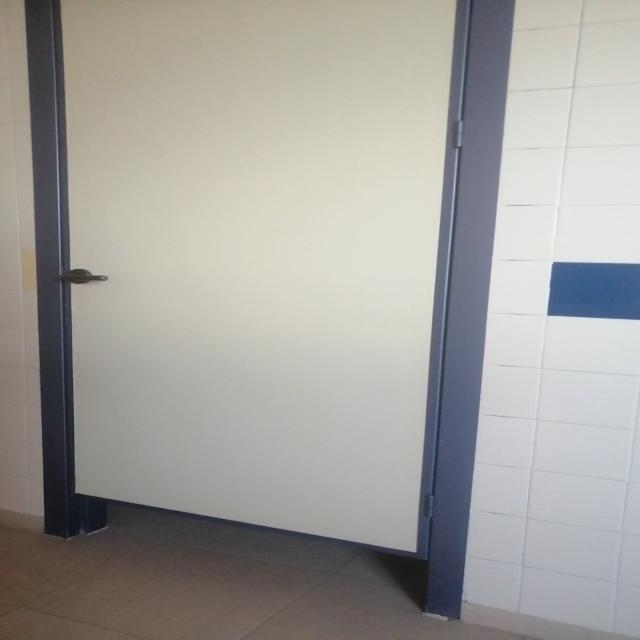door_handle: (55, 272, 111, 283)
